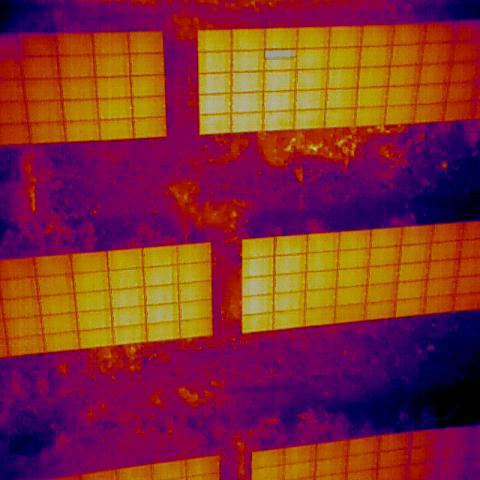fault: (264, 48, 296, 60)
